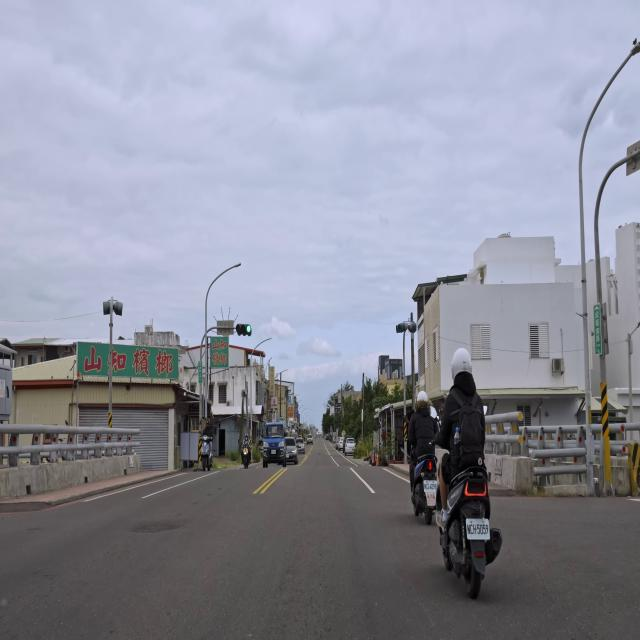green light: (236, 323, 252, 336)
